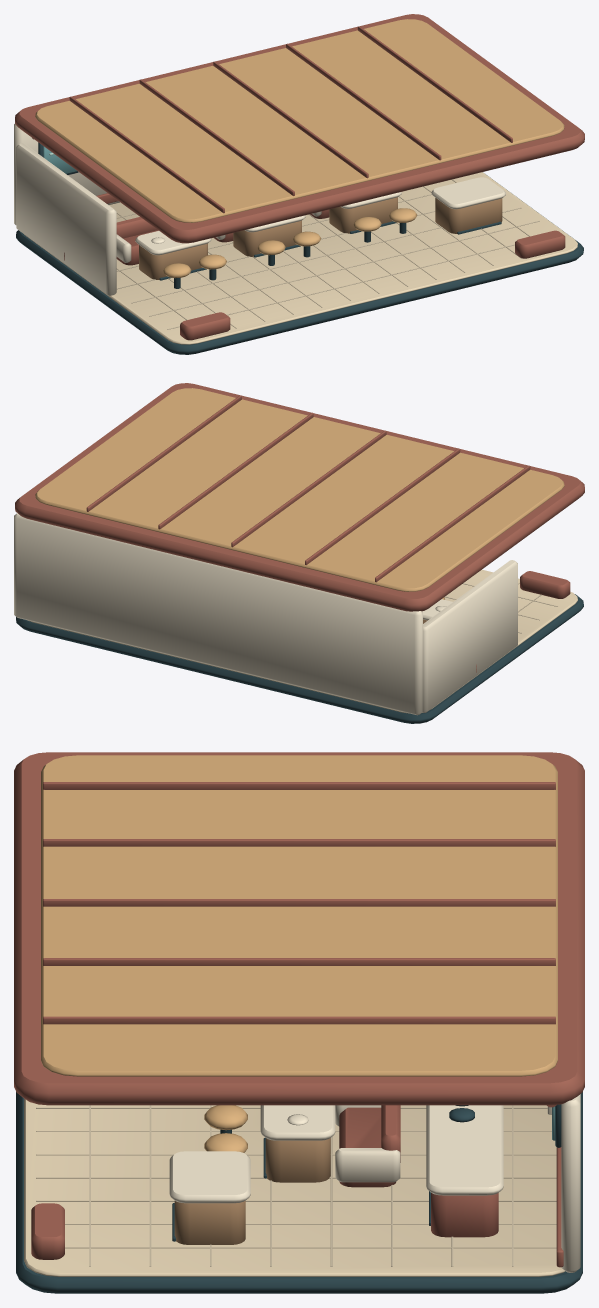
The model's file is restaurant.glb.
The picture shows the model from 3 angles, top to bottom: view 1: azimuth 30°, elevation 25°; view 2: azimuth 150°, elevation 25°; view 3: azimuth 270°, elevation 25°; orthographic projection. The views are drawn at different scales.
Visible parts, largest first — view 1: Roof, Room; view 2: Roof, Room; view 3: Roof, Room.
Boxes of the visible parts, x1,y1,x2,y2 form: Roof: [15, 14, 584, 243]; Room: [14, 124, 583, 354]; Roof: [15, 383, 584, 611]; Room: [14, 513, 583, 723]; Roof: [14, 752, 584, 1105]; Room: [16, 1092, 582, 1293].
Bounding box in the file's own units: 11.5 × 3.48 × 8.18.
